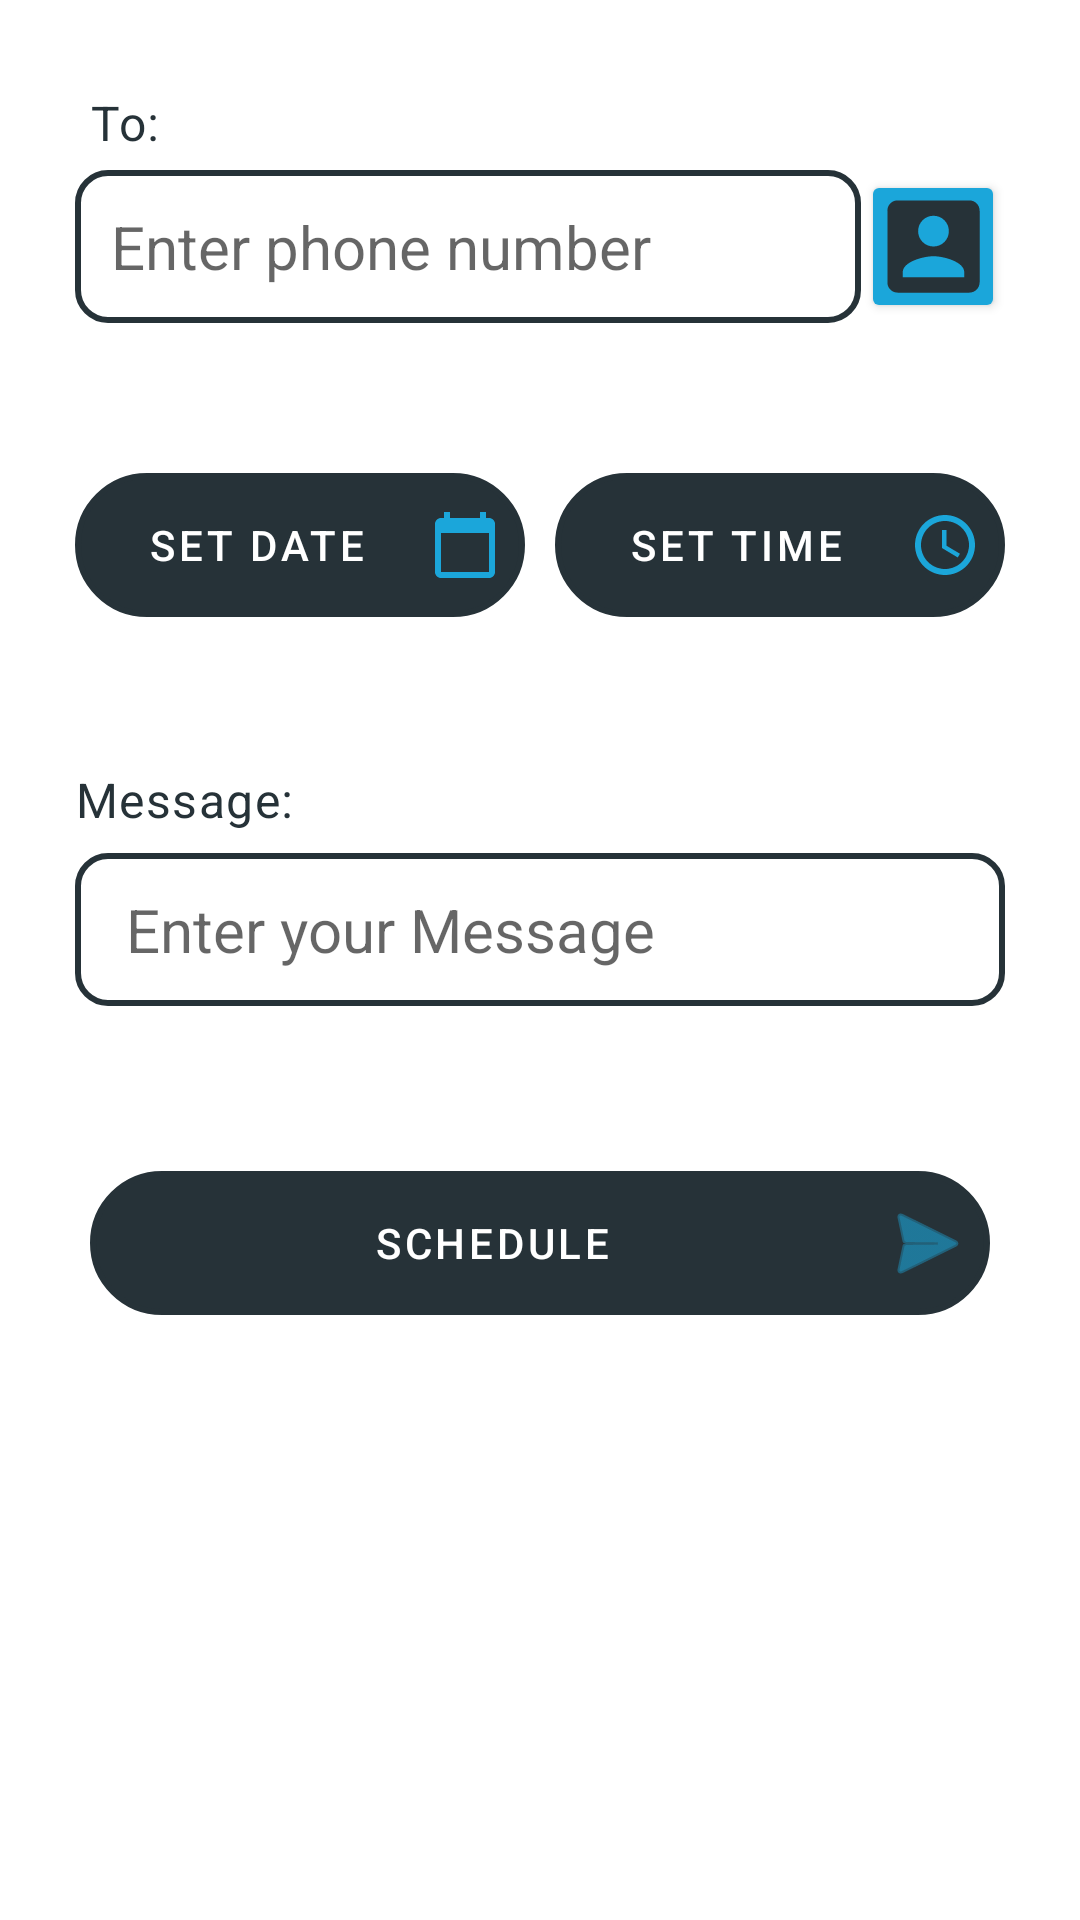

Icons on this 1080px×1920px Android screen, each with the point to tap as point (x, y):
account box: point (933, 247)
